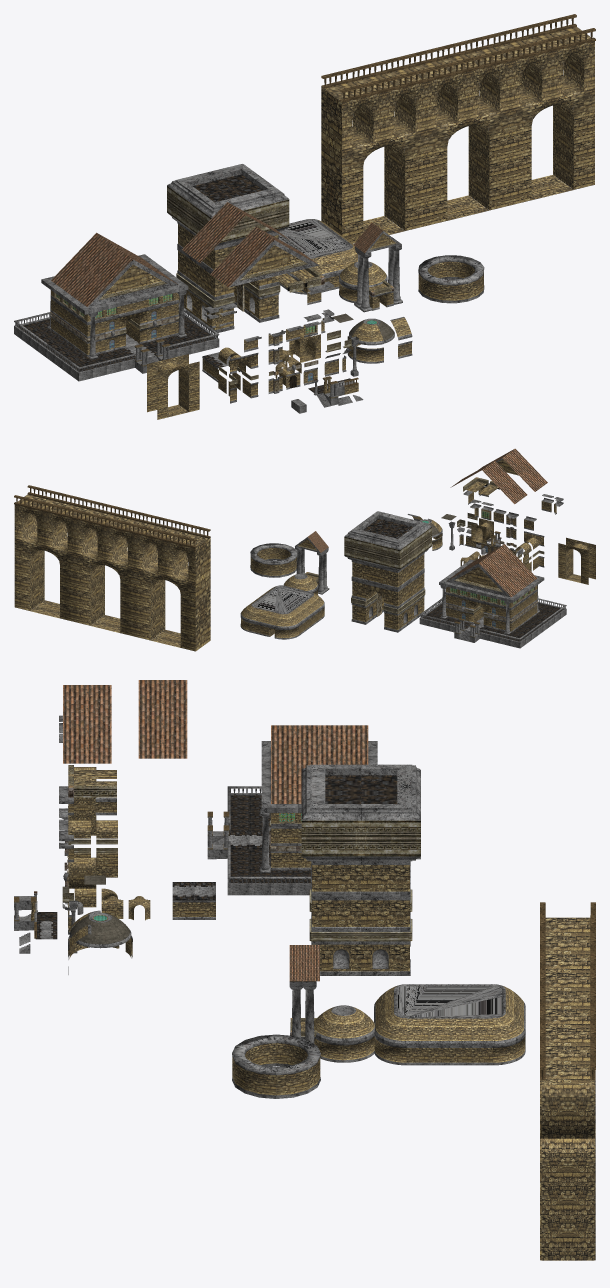
File: uploads_files_723201_BuildingSet.fbx
3 renders of one model, top to bottom at view 1: azimuth 30°, elevation 25°; view 2: azimuth 150°, elevation 25°; view 3: azimuth 270°, elevation 25°, orthographic. The views are drawn at different scales.
Visible parts, largest first — view 1: Aquaduct, Building, Giant Arch Monument, Railing, Catacombs, Building Base, Vert.008, I, Aqueduct End cap, Small Arch.009, Vert.015, Small Arch.013 (+3 smaller); view 2: Aquaduct, Giant Arch Monument, Building, Catacombs, Railing, Building Base, Aqueduct End cap, I, Vert.008, Small Arch.009, Vert.015, Small Arch.013 (+1 smaller); view 3: Giant Arch Monument, Catacombs, Aquaduct, Railing, Building, Building Base, I, Vert.015, Vert.008, E, Wall 1st Level - Plain.013, Small Arch.013.
Boxes of the visible parts, bbox=[...] form: Aquaduct: bbox=[321, 41, 594, 243]; Building: bbox=[41, 232, 188, 359]; Giant Arch Monument: bbox=[167, 164, 289, 332]; Railing: bbox=[321, 14, 595, 102]; Catacombs: bbox=[278, 219, 402, 312]; Building Base: bbox=[14, 304, 219, 381]; Vert.008: bbox=[210, 226, 319, 287]; I: bbox=[418, 255, 484, 303]; Aqueduct End cap: bbox=[321, 88, 341, 235]; Small Arch.009: bbox=[147, 354, 199, 407]; Vert.015: bbox=[182, 202, 289, 262]; Small Arch.013: bbox=[289, 328, 320, 362]; Aquaduct: bbox=[14, 504, 210, 651]; Giant Arch Monument: bbox=[344, 511, 431, 632]; Building: bbox=[439, 544, 544, 634]; Catacombs: bbox=[240, 531, 329, 639]; Railing: bbox=[14, 485, 210, 548]; Building Base: bbox=[419, 598, 566, 648]; Aqueduct End cap: bbox=[195, 538, 210, 650]; I: bbox=[250, 543, 296, 577]; Vert.008: bbox=[479, 448, 547, 491]; Small Arch.009: bbox=[558, 537, 595, 575]; Vert.015: bbox=[450, 461, 527, 504]; Small Arch.013: bbox=[471, 518, 493, 543]; Giant Arch Monument: bbox=[301, 764, 420, 975]; Catacombs: bbox=[289, 945, 525, 1065]; Aquaduct: bbox=[540, 1080, 595, 1260]; Railing: bbox=[540, 902, 595, 1082]; Building: bbox=[260, 725, 377, 872]; Building Base: bbox=[207, 786, 420, 895]; I: bbox=[232, 1034, 320, 1098]; Vert.015: bbox=[138, 680, 187, 758]; Vert.008: bbox=[63, 685, 111, 763]; E: bbox=[172, 882, 215, 919]; Wall 1st Level - Plain.013: bbox=[69, 912, 131, 948]; Small Arch.013: bbox=[68, 857, 96, 888].
Size of the model in its own units: 10761 by 18056 by 5488.
